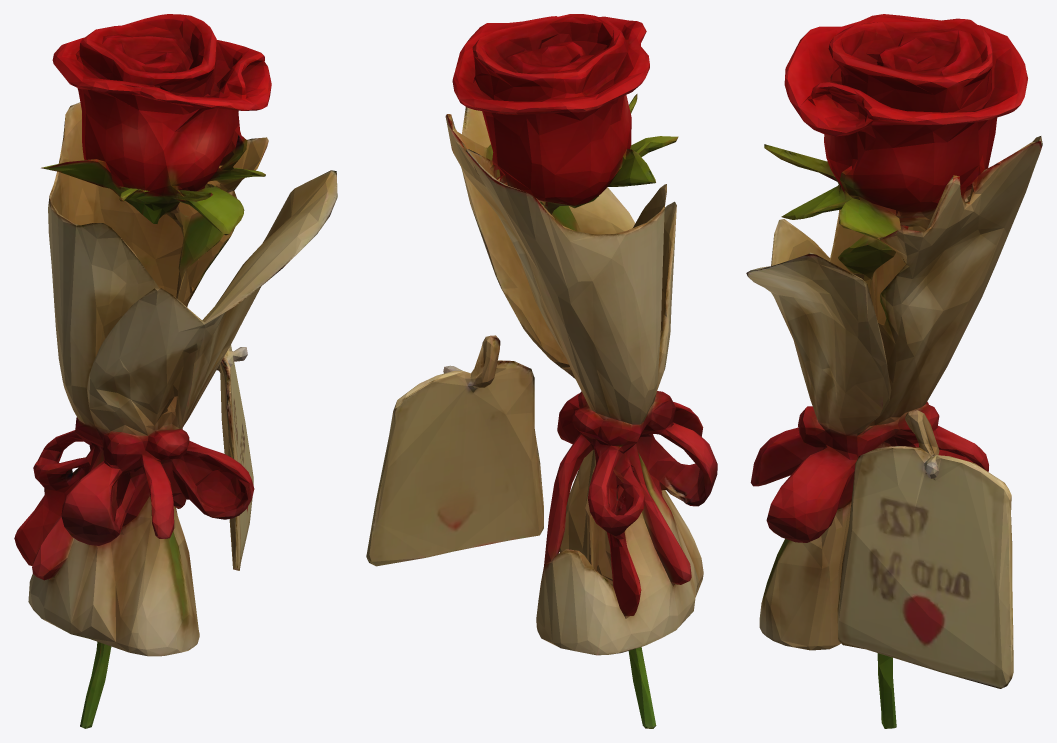
File: love-note-bouquet.glb
3 renders of one model, left to right at view 1: azimuth 30°, elevation 25°; view 2: azimuth 150°, elevation 25°; view 3: azimuth 270°, elevation 25°, orthographic. The views are drawn at different scales.
Parts seen in each view (by area): view 1: world; view 2: world; view 3: world.
Part boxes in pixels (x1=…): world: x1=14, y1=14, x2=337, y2=728; world: x1=366, y1=14, x2=717, y2=728; world: x1=746, y1=14, x2=1042, y2=728.
Bounding box in the file's own units: 0.428 × 0.9997 × 0.3697.
1 material, 1 textured.
